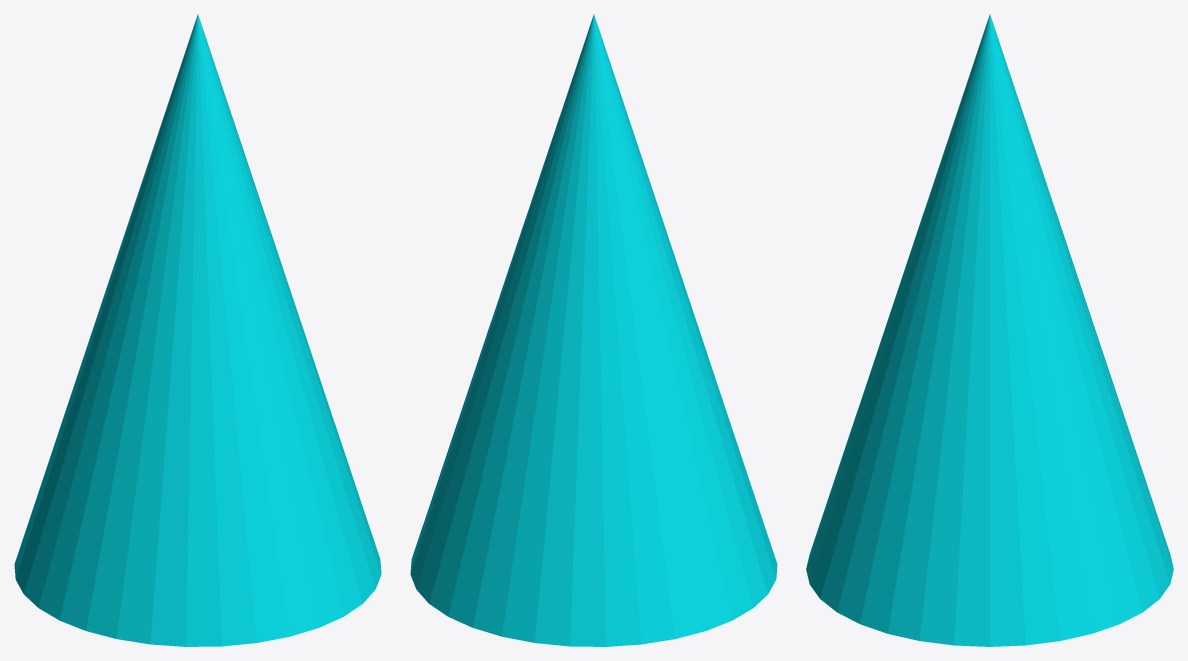
The model's file is spike.fbx.
The picture shows the model from 3 angles, left to right: view 1: azimuth 30°, elevation 25°; view 2: azimuth 150°, elevation 25°; view 3: azimuth 270°, elevation 25°; orthographic projection.
Visible parts, largest first — view 1: Cone; view 2: Cone; view 3: Cone.
Part boxes in pixels (bbox=[...]): Cone: bbox=[14, 14, 381, 646]; Cone: bbox=[410, 14, 777, 646]; Cone: bbox=[806, 14, 1173, 646].
Bounding box in the file's own units: 2.4 × 4 × 2.4.
